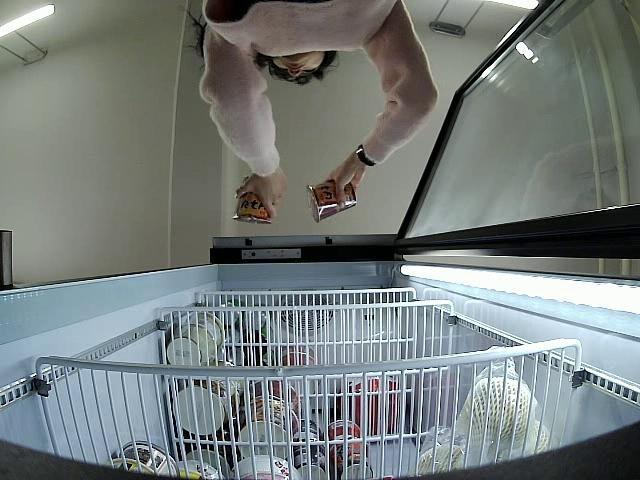06_nuguri_S: (304, 178, 360, 224), (232, 174, 272, 228)
